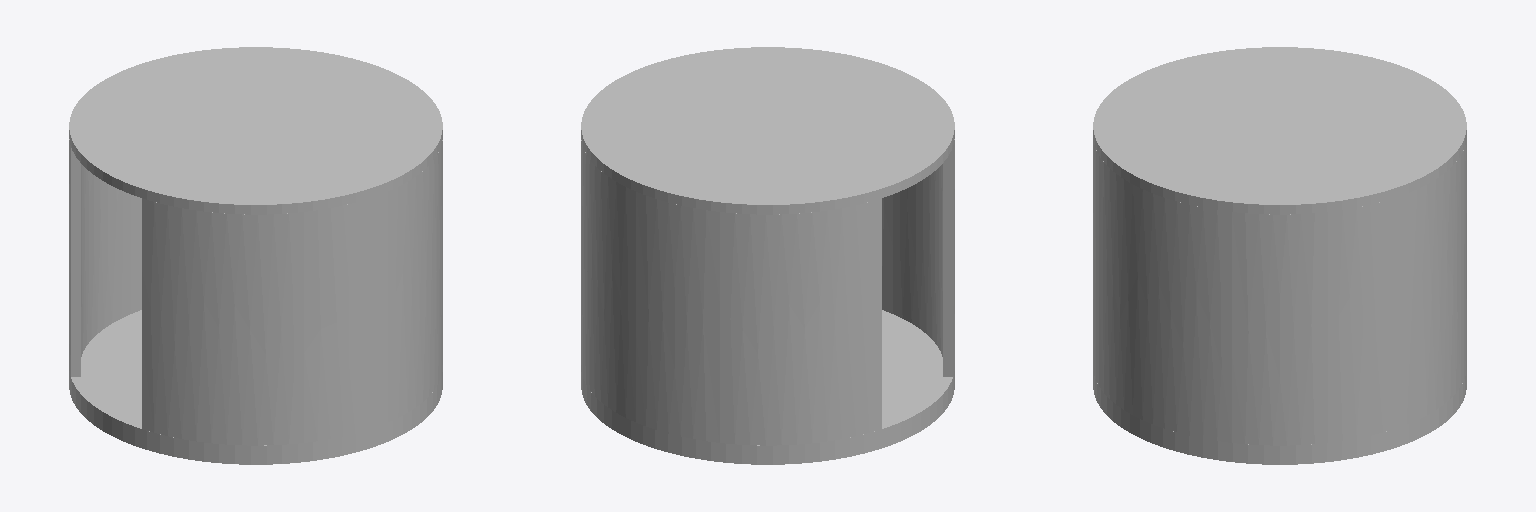
The model's file is lift_cabine.obj.
The picture shows the model from 3 angles: view 1: azimuth 30°, elevation 25°; view 2: azimuth 150°, elevation 25°; view 3: azimuth 270°, elevation 25°; orthographic projection.
Parts seen in each view (by area): view 1: Walls, Floors; view 2: Walls, Floors; view 3: Walls, Floors.
Part boxes in pixels (bbox=[...]): Walls: bbox=[69, 139, 442, 445]; Floors: bbox=[69, 47, 442, 464]; Walls: bbox=[581, 139, 954, 445]; Floors: bbox=[581, 47, 954, 464]; Walls: bbox=[1093, 140, 1466, 445]; Floors: bbox=[1093, 47, 1466, 464].
Size of the model in its own units: 3.52 by 2.7 by 3.52.